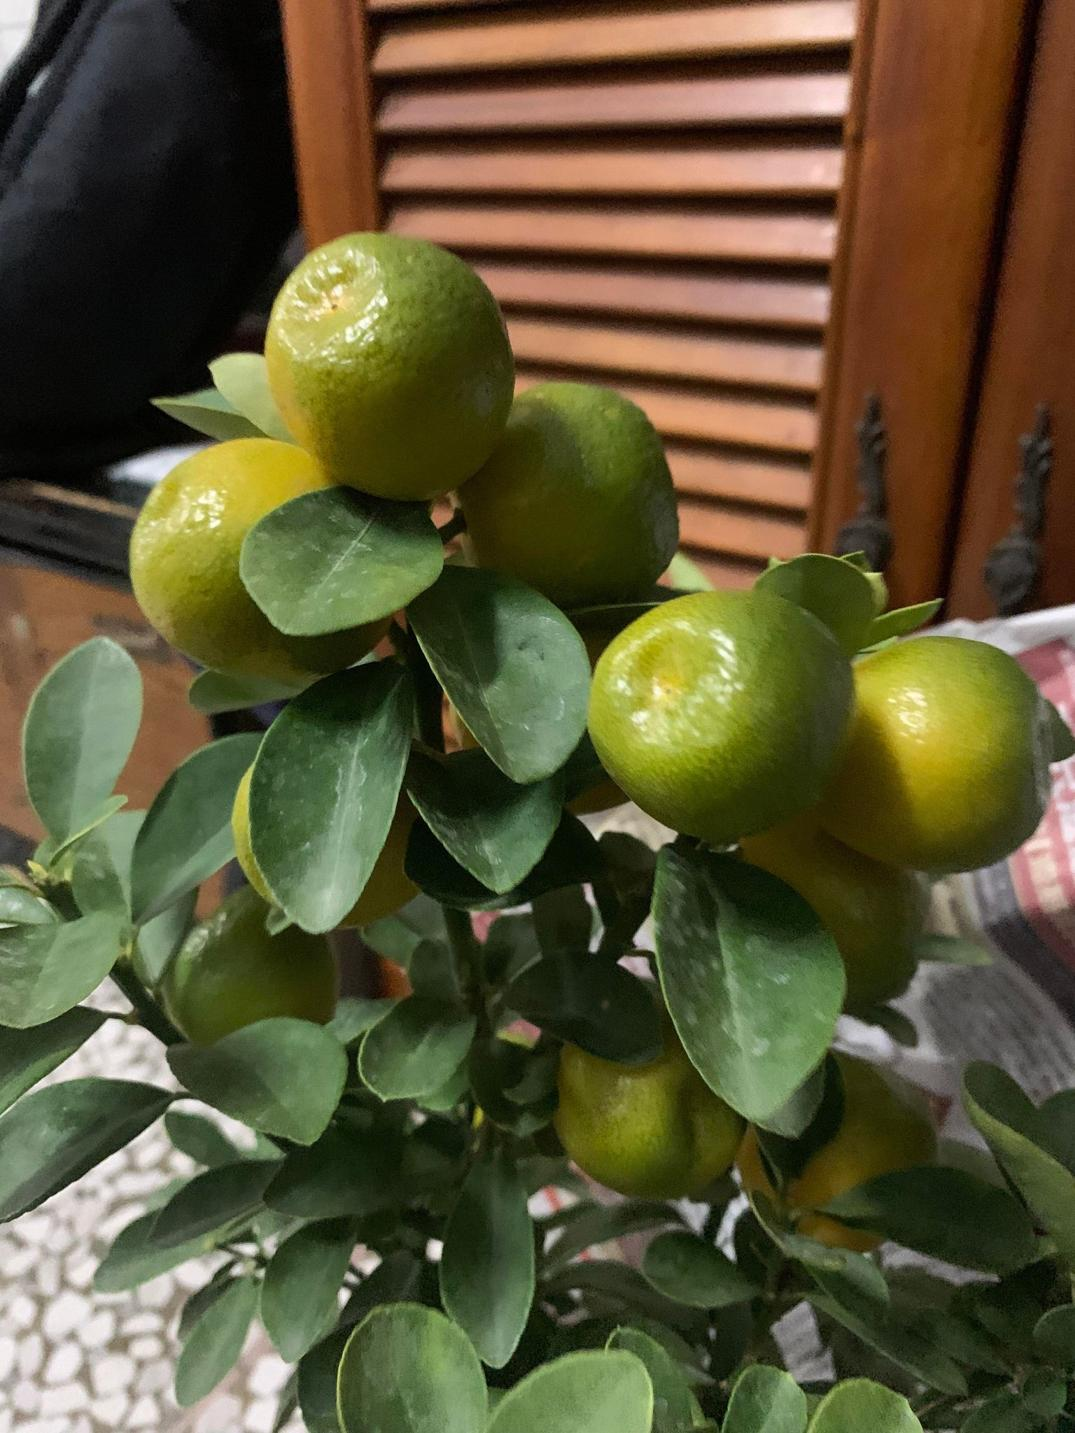Kumquat: (586, 587, 858, 845), (257, 231, 514, 501), (110, 444, 395, 680), (810, 635, 1049, 879), (466, 381, 694, 584)
